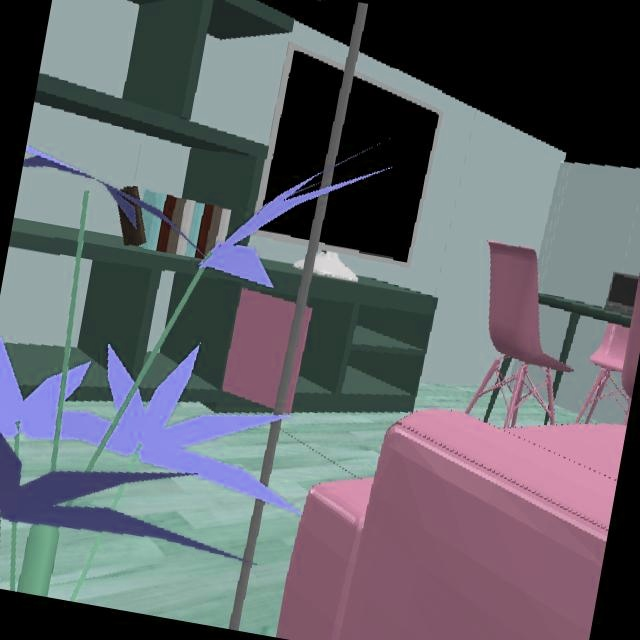book: (106, 189, 230, 262)
bookshelf: (33, 0, 293, 233), (4, 232, 245, 412), (7, 217, 77, 257)
chair: (464, 242, 573, 428), (589, 283, 640, 398)
laptop: (608, 272, 638, 308)
monitor: (252, 51, 433, 260)
shelf: (296, 276, 438, 412)
table: (538, 294, 632, 365)
